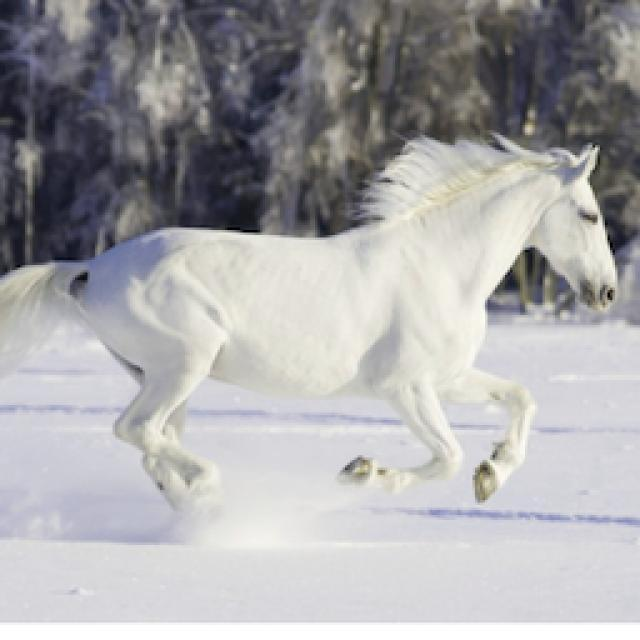Horse: (2, 122, 626, 540)
